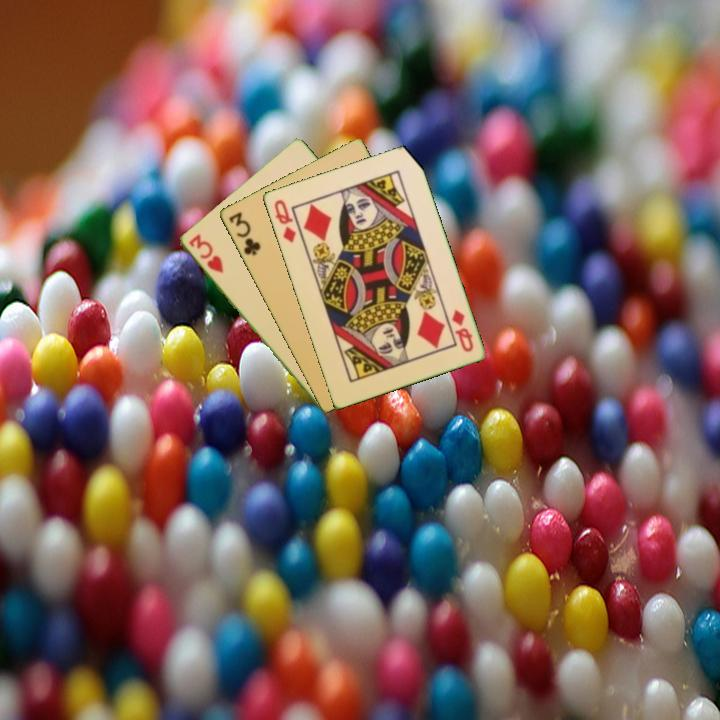3c: (225, 208, 263, 258)
3h: (185, 230, 226, 276)
Qd: (270, 196, 299, 246), (448, 305, 476, 355)
